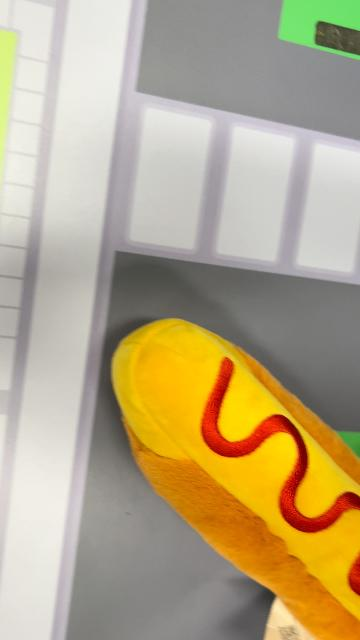hotdog: (110, 316, 360, 638)
